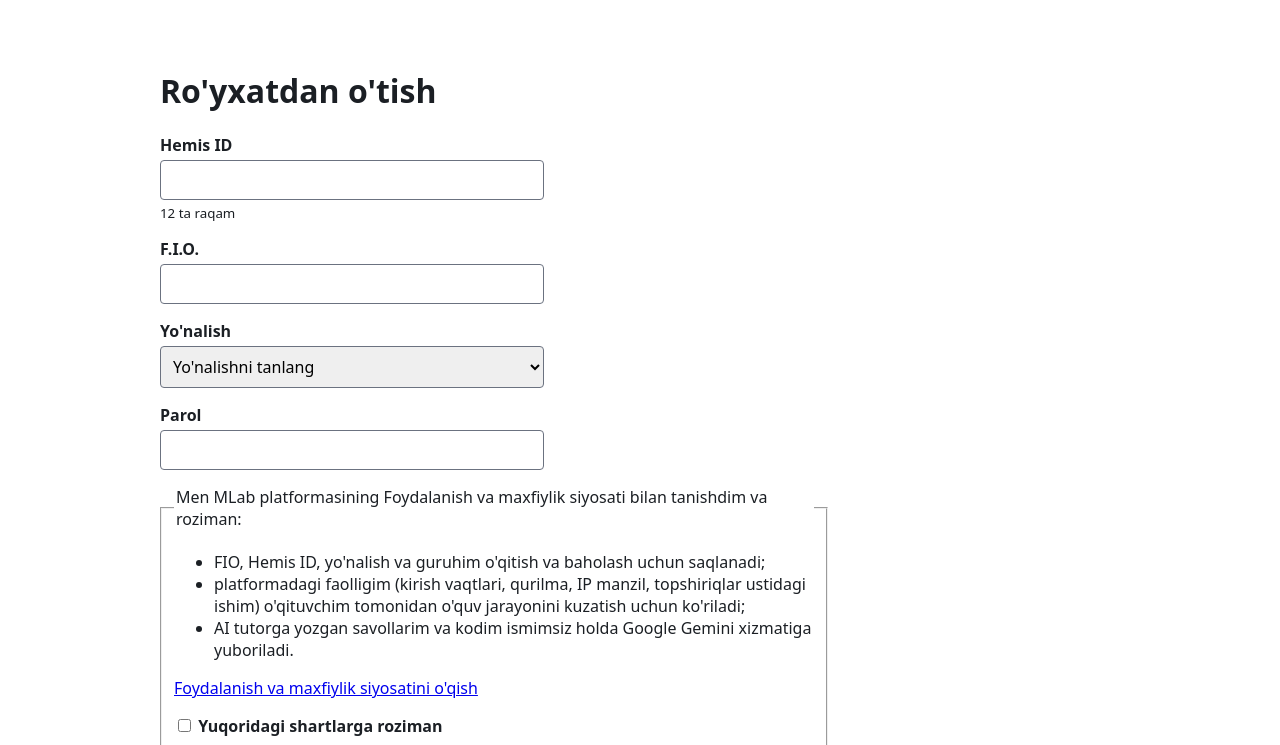
Test: /policy (SRS 7) › ro'yxatdan o'tish formasidagi havola siyosat sahifasiga olib boradi
What coordinates should you click on to do the following:
click the link "Foydalanish va maxfiylik siyosatini o'qish"
I would click on:
 (326, 688)
Its box is left=174, top=678, right=478, bottom=700.
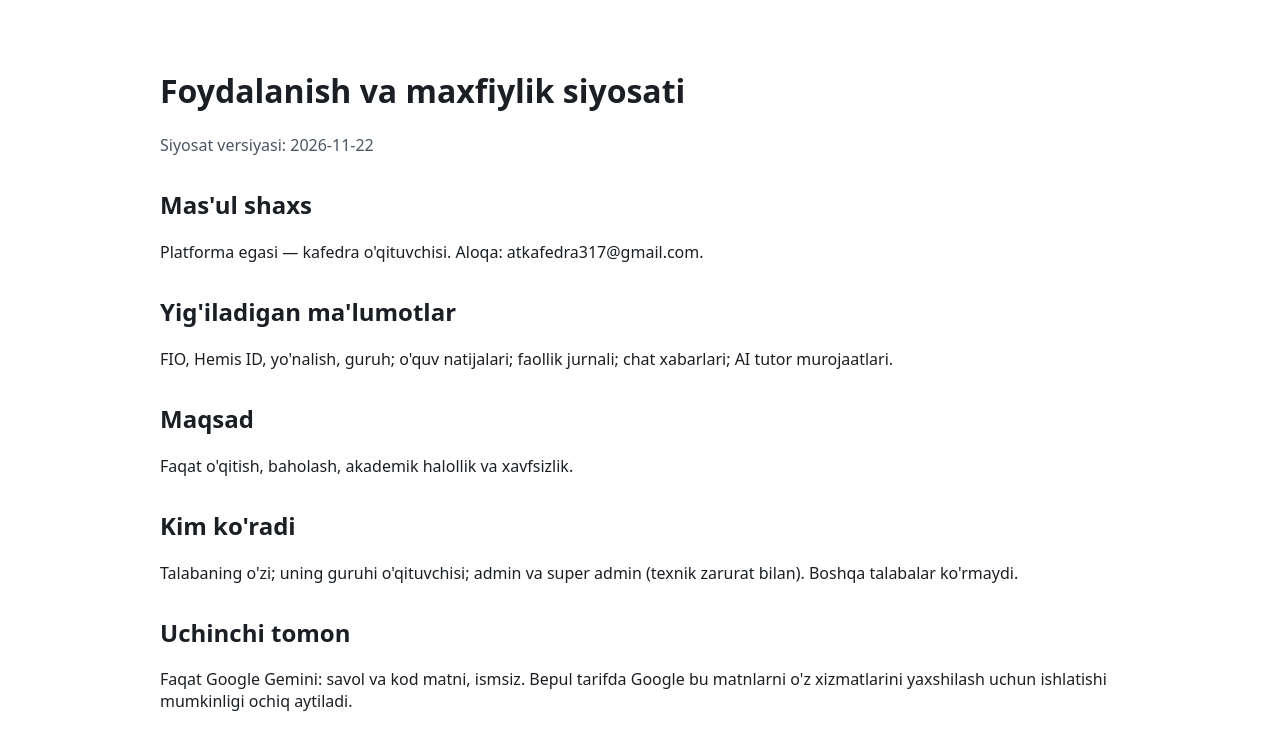
Expected: the heading "Foydalanish va maxfiylik siyosati" is shown, left=160, top=69, right=685, bottom=112
